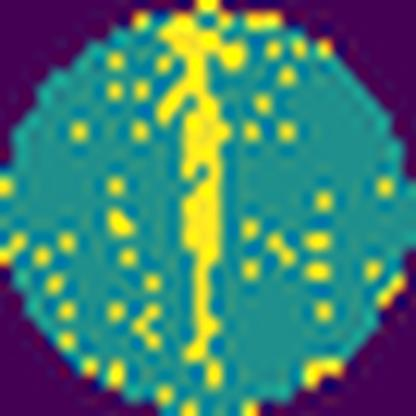Scratch: (153, 14, 249, 393)
